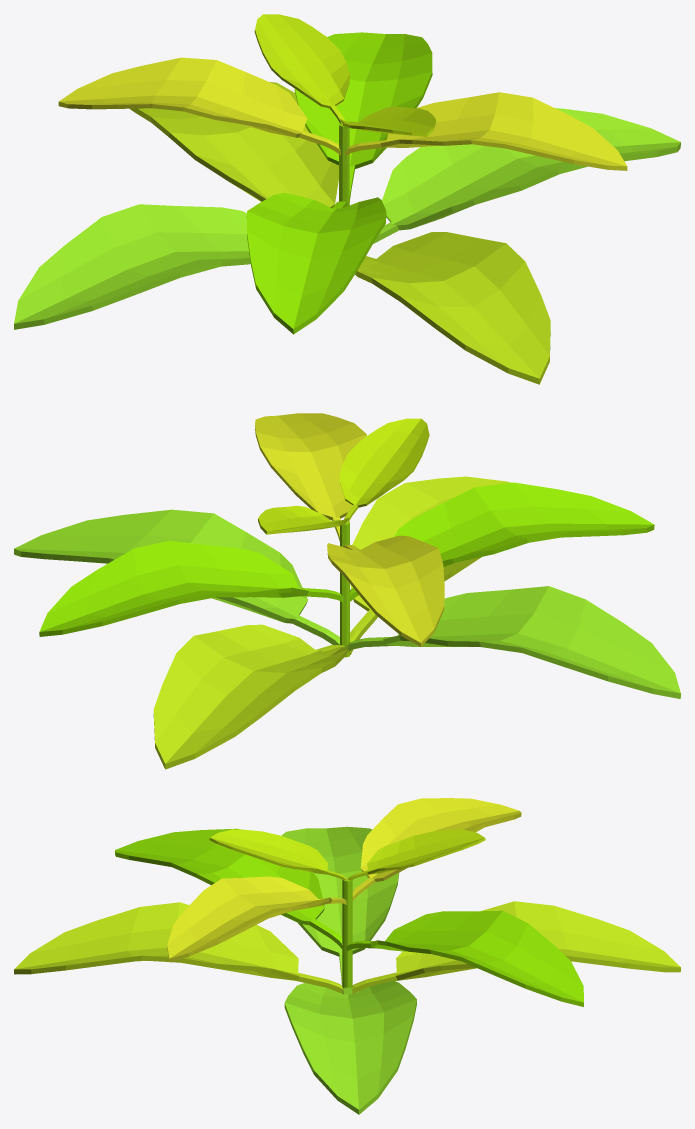
File: Herbs.fbx
3 views of the same model, one above another, from view 1: azimuth 30°, elevation 25°; view 2: azimuth 150°, elevation 25°; view 3: azimuth 270°, elevation 25° (orthographic). The views are drawn at different scales.
Parts seen in each view (by area): view 1: Cube.002, Cube.003, Cube.005, Cube.004, Cube, Cube.001; view 2: Cube.002, Cube.005, Cube.003, Cube.004, Cube, Cube.001; view 3: Cube.003, Cube.002, Cube.005, Cube.004, Cube, Cube.001.
Part boxes in pixels (<box>): Cube.002: <box>14,108,680,329</box>; Cube.003: <box>130,82,550,384</box>; Cube.005: <box>246,32,432,334</box>; Cube.004: <box>58,57,627,170</box>; Cube: <box>254,14,436,136</box>; Cube.001: <box>339,123,349,205</box>; Cube.002: <box>14,509,680,698</box>; Cube.005: <box>39,482,654,636</box>; Cube.003: <box>153,476,510,769</box>; Cube.004: <box>255,413,444,646</box>; Cube: <box>258,418,429,534</box>; Cube.001: <box>340,521,349,657</box>; Cube.003: <box>14,901,680,993</box>; Cube.002: <box>281,826,416,1114</box>; Cube.005: <box>115,828,583,1006</box>; Cube.004: <box>167,798,521,962</box>; Cube: <box>209,829,485,880</box>; Cube.001: <box>342,877,352,987</box>.
Size of the model in its own units: 171 by 170 by 45.34.
